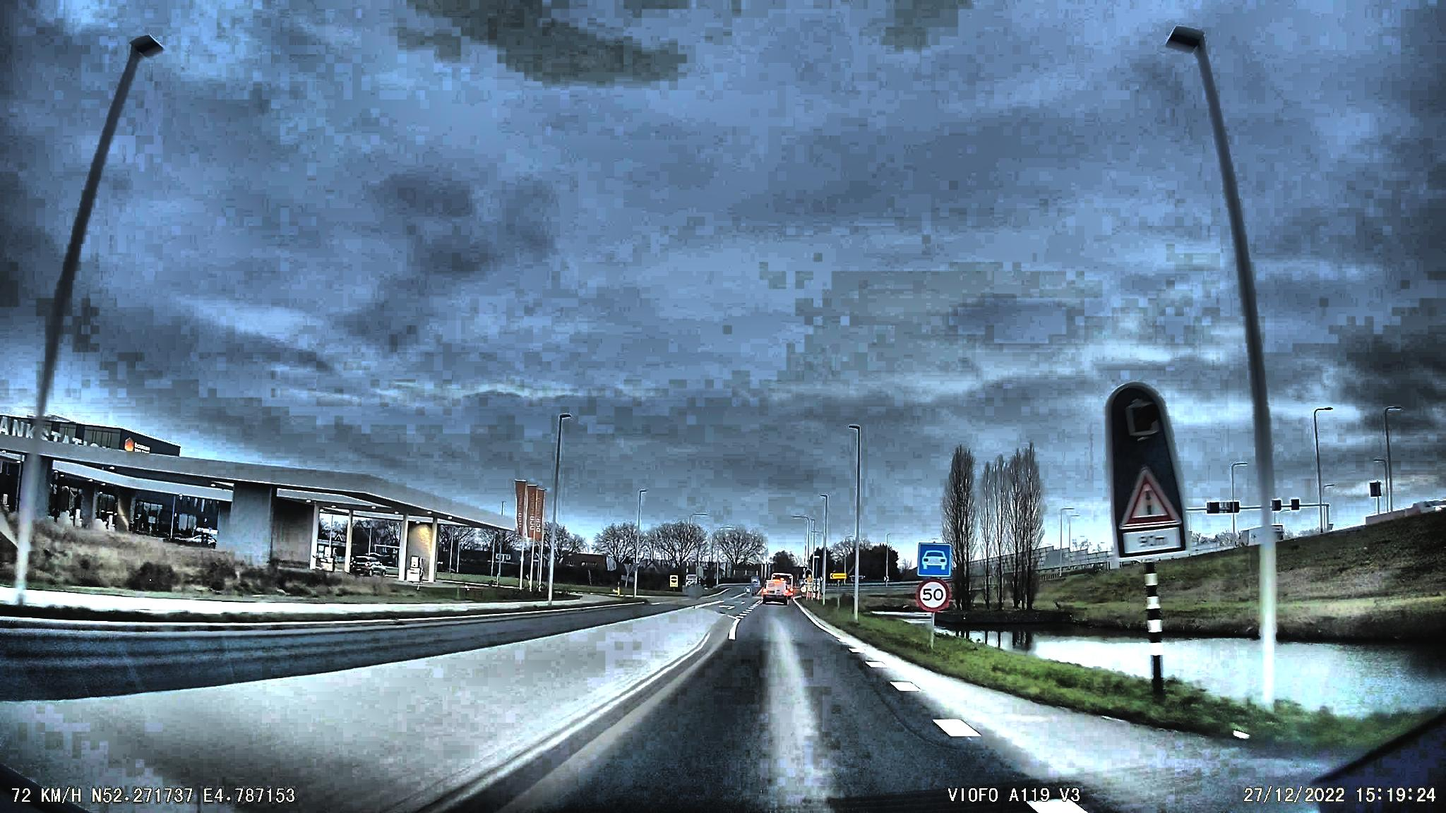Roads: (450, 600, 1446, 813)
